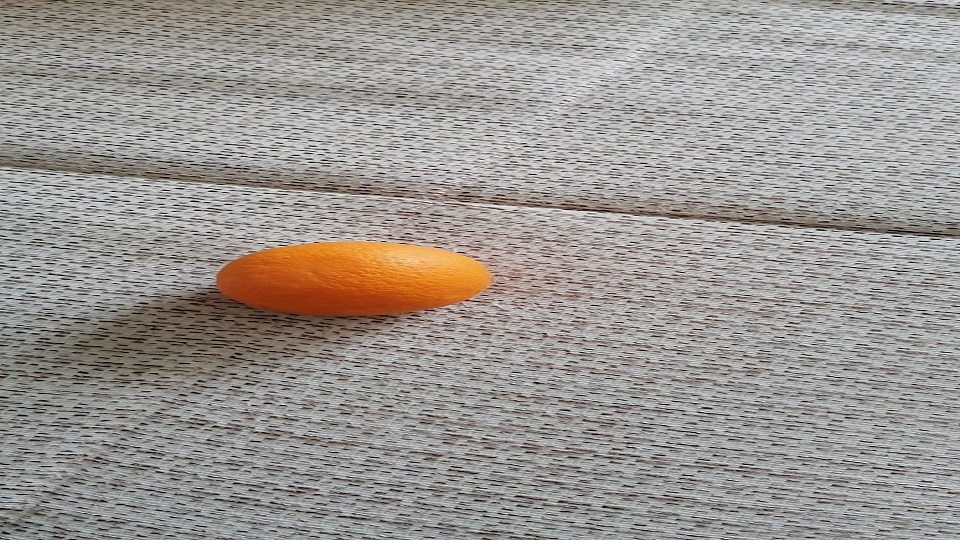portakal: (213, 239, 493, 318)
